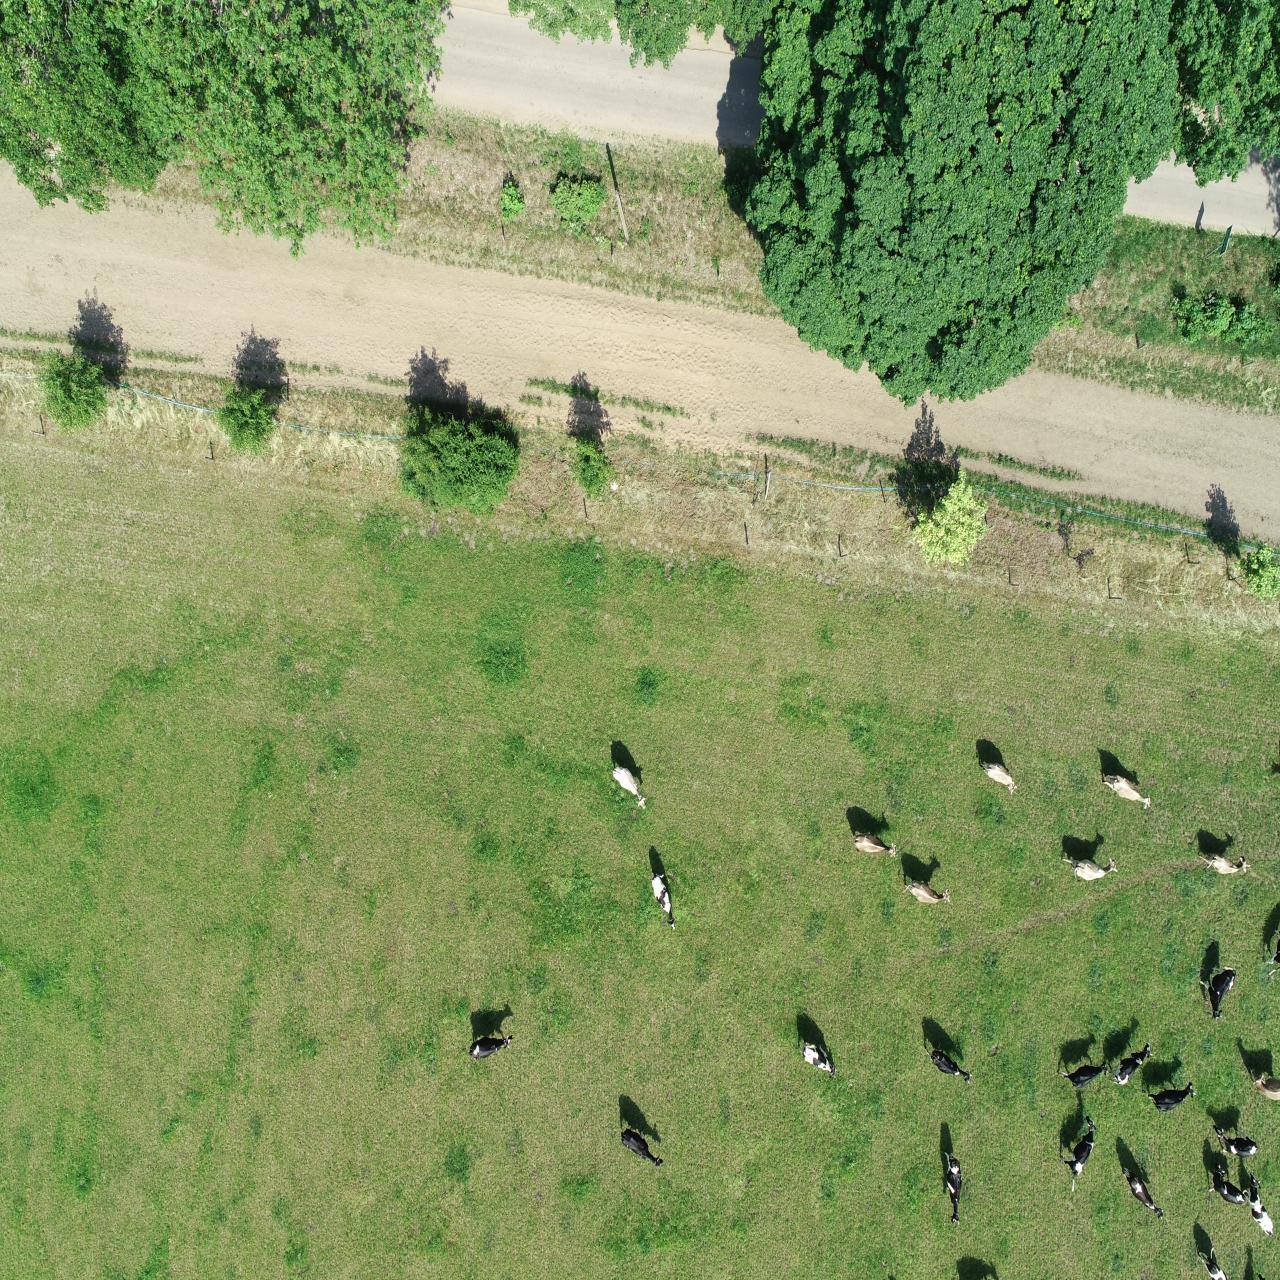cow: (1118, 1162, 1166, 1227), (1058, 1114, 1097, 1193), (1103, 1035, 1156, 1089), (1098, 765, 1153, 817), (1197, 961, 1239, 1023), (922, 1042, 974, 1089), (1060, 850, 1123, 887), (619, 1123, 667, 1172), (1241, 1170, 1275, 1239), (1144, 1074, 1197, 1116), (795, 1035, 840, 1082), (608, 761, 648, 813), (939, 1148, 965, 1227), (1211, 1121, 1260, 1160), (1205, 1163, 1247, 1208), (974, 755, 1019, 797), (901, 876, 953, 911), (648, 870, 678, 931), (1197, 846, 1252, 877), (1057, 1060, 1109, 1091), (468, 1033, 516, 1062), (852, 831, 898, 859)
